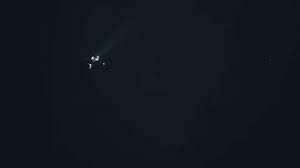Plane: (72, 47, 117, 73)
